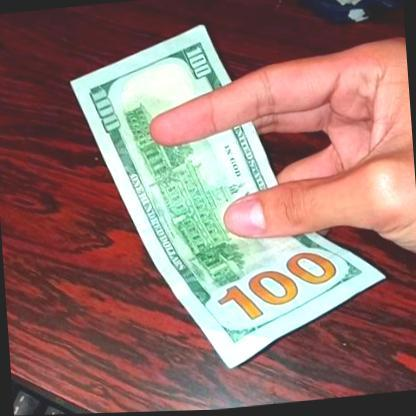dollar_back: (66, 4, 394, 390)
